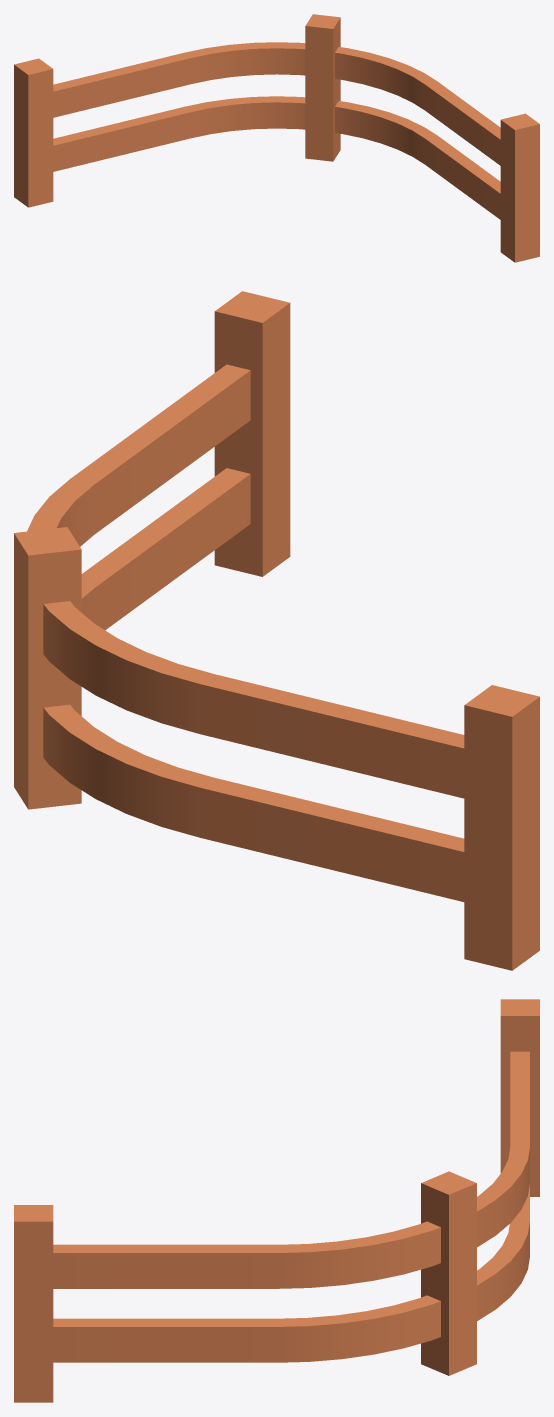
The model's file is fenceCurved.fbx.
3 renders of one model, top to bottom at view 1: azimuth 30°, elevation 25°; view 2: azimuth 150°, elevation 25°; view 3: azimuth 270°, elevation 25°, orthographic. The views are drawn at different scales.
Visible parts, largest first — view 1: fenceCurved; view 2: fenceCurved; view 3: fenceCurved.
Boxes of the visible parts, x1,y1,x2,y2 form: fenceCurved: (14, 14, 539, 262); fenceCurved: (14, 291, 539, 970); fenceCurved: (14, 999, 539, 1402).
Bounding box in the file's own units: 10 × 3.8 × 10.
